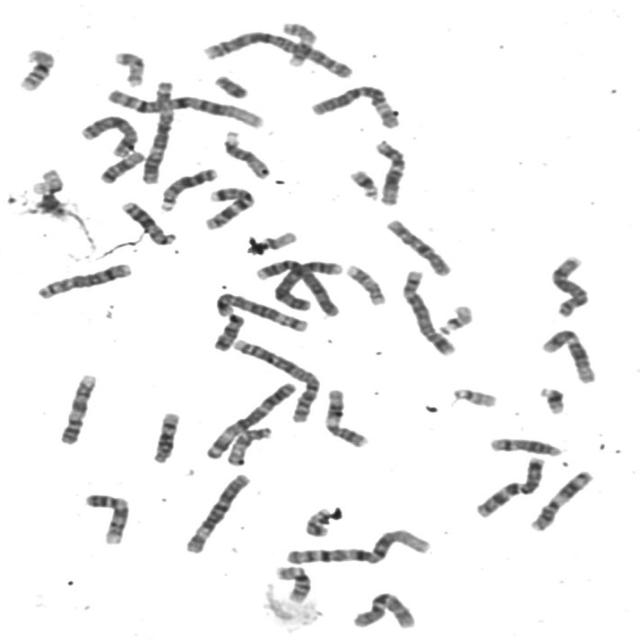A1: (103, 83, 269, 130), (280, 522, 434, 568)
A2: (228, 334, 324, 424), (200, 26, 358, 79)
A3: (202, 377, 301, 461), (138, 76, 178, 186)
B4: (257, 254, 345, 317), (269, 254, 346, 314)
B5: (398, 264, 460, 356), (211, 287, 311, 333)
C10: (382, 213, 456, 278), (349, 587, 420, 631)
C11: (526, 465, 598, 533), (320, 383, 373, 450)
C12: (538, 323, 600, 385), (371, 135, 411, 207)
C6: (181, 468, 255, 555), (308, 80, 405, 130)
C7: (470, 451, 550, 519), (200, 182, 259, 231)
C8: (32, 257, 136, 301), (547, 250, 593, 319)
C9: (56, 368, 100, 446), (79, 488, 134, 546)
D13: (156, 162, 221, 213), (118, 196, 180, 247)
D14: (485, 432, 566, 458), (149, 407, 184, 465)
D15: (220, 126, 275, 180), (222, 422, 276, 466)
E16: (14, 44, 59, 92), (272, 561, 316, 604)
E17: (342, 260, 390, 306), (278, 18, 320, 69)
E18: (96, 146, 149, 184), (209, 309, 248, 352)
F19: (244, 227, 300, 254), (28, 164, 67, 196)
F20: (109, 46, 149, 88), (302, 503, 334, 538)
G21: (345, 164, 384, 201), (534, 381, 570, 416)
G22: (434, 298, 477, 336), (448, 382, 501, 408)
Y: (210, 69, 252, 100)
